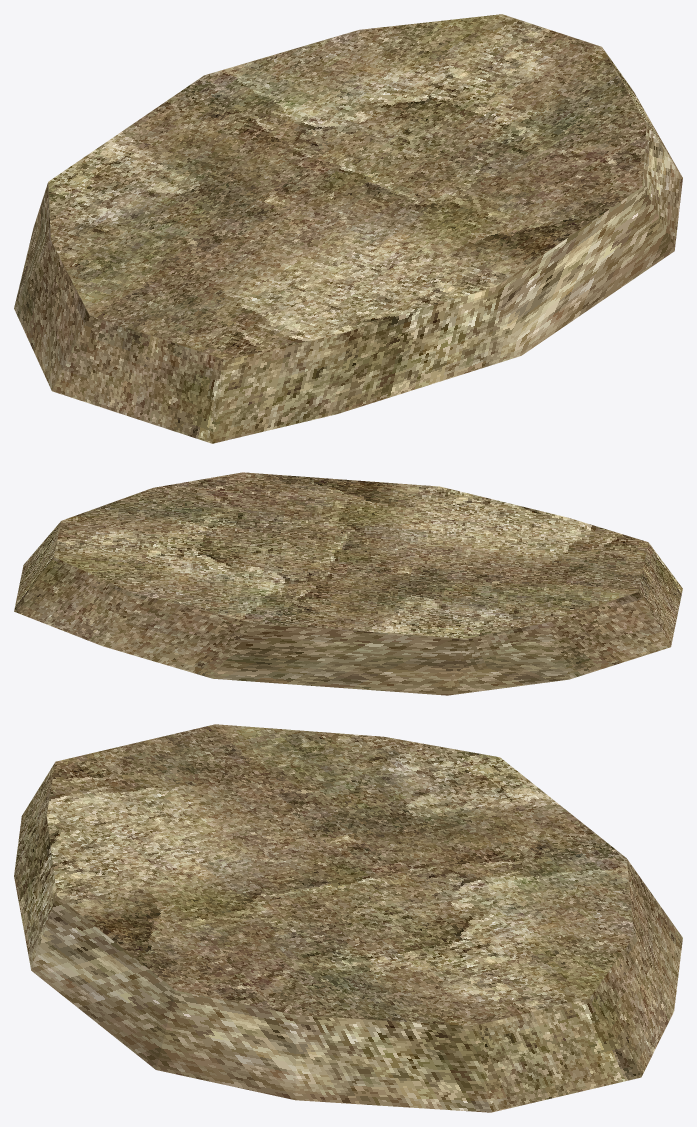
Rendered from stage-east-p7-131.glb.
3 views of the same model, one above another, from view 1: azimuth 30°, elevation 25°; view 2: azimuth 150°, elevation 25°; view 3: azimuth 270°, elevation 25° (orthographic). The views are drawn at different scales.
Size of the model in its own units: 10.04 by 1.34 by 7.62.
Materials: 1 (1 with a texture image).
